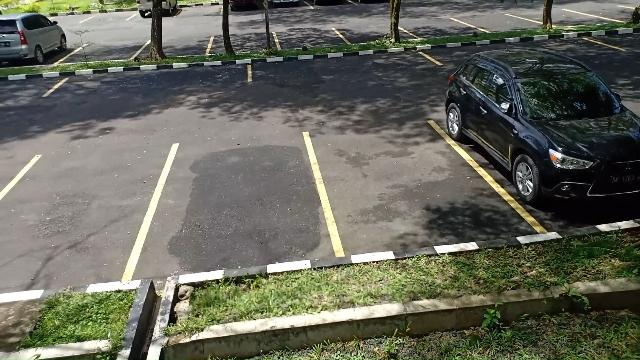empty: (152, 135, 320, 273), (316, 118, 476, 256), (4, 152, 148, 286), (52, 66, 252, 98), (248, 55, 440, 86), (67, 38, 145, 64), (208, 30, 280, 54), (276, 24, 342, 50), (338, 22, 408, 44), (471, 9, 534, 33), (138, 38, 212, 58), (404, 16, 471, 38), (533, 6, 595, 28)
occupied: (460, 88, 640, 228), (0, 21, 70, 67)
